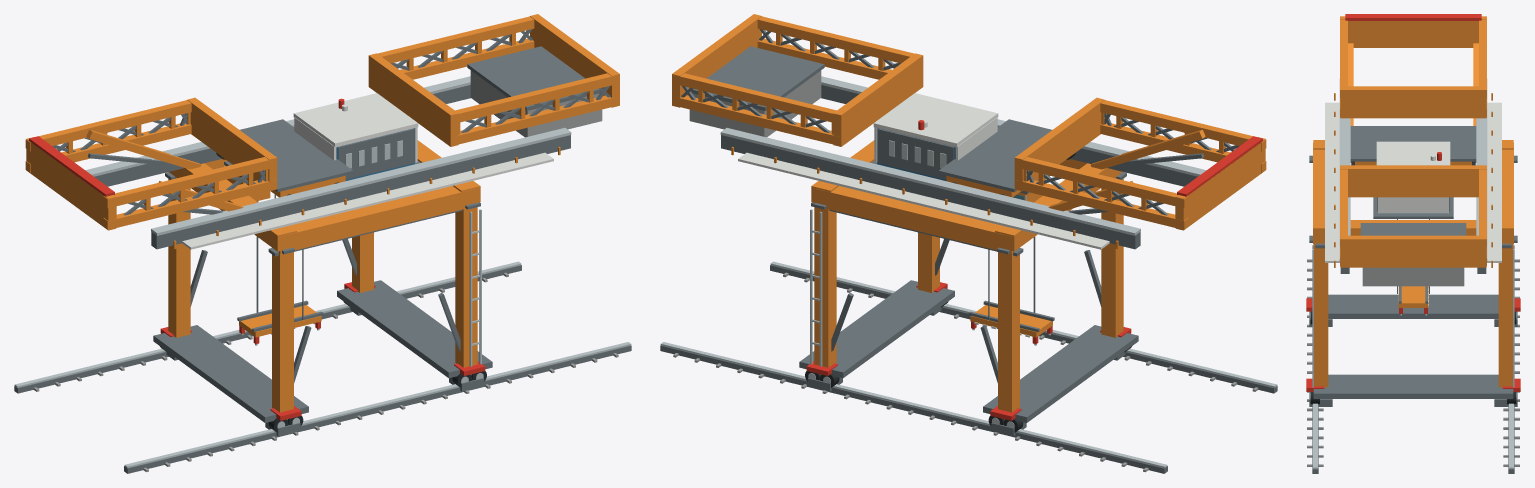
3 renders of one model, left to right at view 1: azimuth 30°, elevation 25°; view 2: azimuth 150°, elevation 25°; view 3: azimuth 270°, elevation 25°, orthographic. The views are drawn at different scales.
Visible parts, largest first — view 1: PortalFrame, LandsideBoom, RailBogies, WatersideBoom, MachineryHouse, Trolley, Spreader; view 2: PortalFrame, LandsideBoom, RailBogies, WatersideBoom, MachineryHouse, Trolley, Spreader; view 3: PortalFrame, LandsideBoom, RailBogies, WatersideBoom, MachineryHouse, Trolley, Spreader.
Part boxes in pixels (x1=…): PortalFrame: x1=85, y1=76, x2=571, y2=436; LandsideBoom: x1=368, y1=14, x2=619, y2=146; RailBogies: x1=14, y1=261, x2=631, y2=473; WatersideBoom: x1=25, y1=97, x2=277, y2=230; MachineryHouse: x1=293, y1=93, x2=420, y2=180; Trolley: x1=216, y1=119, x2=353, y2=201; Spreader: x1=237, y1=300, x2=323, y2=345; PortalFrame: x1=720, y1=76, x2=1206, y2=436; LandsideBoom: x1=672, y1=14, x2=923, y2=146; RailBogies: x1=660, y1=261, x2=1277, y2=473; WatersideBoom: x1=1014, y1=97, x2=1266, y2=230; MachineryHouse: x1=871, y1=93, x2=998, y2=180; Trolley: x1=938, y1=119, x2=1075, y2=202; Spreader: x1=968, y1=300, x2=1054, y2=345; PortalFrame: x1=1309, y1=78, x2=1517, y2=406; LandsideBoom: x1=1340, y1=165, x2=1486, y2=286; RailBogies: x1=1306, y1=259, x2=1520, y2=473; WatersideBoom: x1=1340, y1=14, x2=1486, y2=125; MachineryHouse: x1=1373, y1=141, x2=1453, y2=218; Trolley: x1=1350, y1=126, x2=1476, y2=165; Spreader: x1=1398, y1=286, x2=1428, y2=315.
Size of the model in its own units: 23.99 by 11.95 by 9.72.
